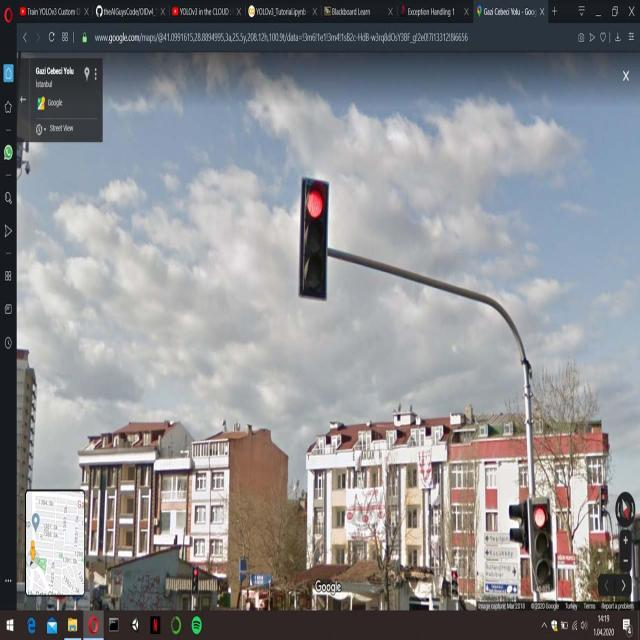kirmizi: (302, 182, 329, 294), (530, 500, 556, 590)
